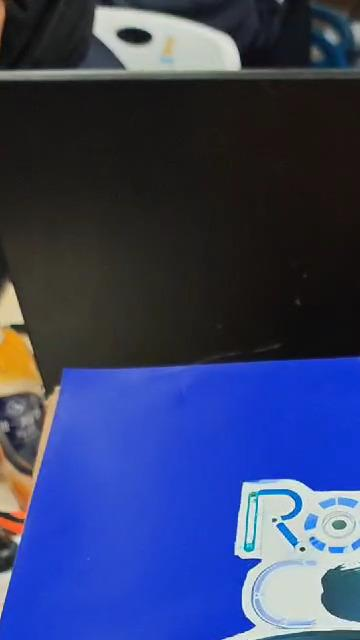B_R1: (19, 467, 360, 640)
